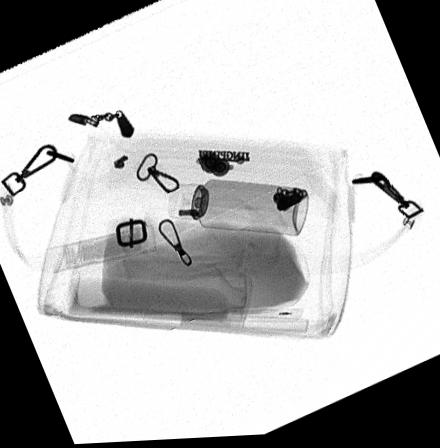Sprayer: (166, 182, 306, 238)
